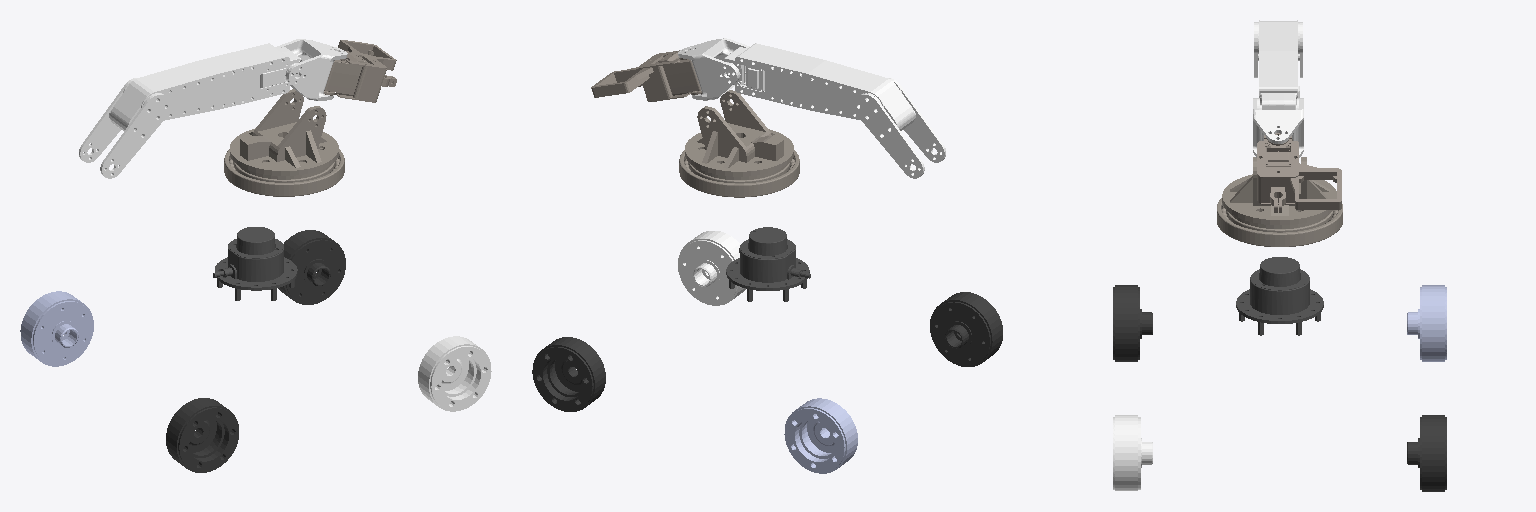
robot.urdf — robot_description:
<?xml version="1.0" encoding="utf-8"?>
<!-- This URDF was automatically created by SolidWorks to URDF Exporter! Originally created by Stephen Brawner (brawner@gmail.com) 
     Commit Version: 1.6.0-4-g7f85cfe  Build Version: 1.6.7995.38578
     For more information, please see http://wiki.ros.org/sw_urdf_exporter -->
<robot
  name="robot_description">

  <!-- Robot Footprint -->
  <link name="base_footprint"/>

  <joint name="base_joint" type="fixed">
    <parent link="base_footprint"/>
    <child link="base_link"/>
    <origin xyz="0.0 0.0 0.033" rpy="0 0 0"/>
  </joint>

  <!-- base link -->
  <link
    name="base_link">
    <inertial>
      <origin
        xyz="-0.00905791507473457 -0.000488795930540497 0.0640826076248514"
        rpy="0 0 0" />
      <mass
        value="3.02079030126272" />
      <inertia
        ixx="0.0047459102901528"
        ixy="3.51756586633145E-06"
        ixz="9.25187553131626E-07"
        iyy="0.00495134636228368"
        iyz="-1.11927483956347E-07"
        izz="0.00929793533778467" />
    </inertial>
    <visual>
      <origin
        xyz="0 0 0"
        rpy="0 0 0" />
      <geometry>
        <mesh
          filename="package://robot_description/meshes/base_link.STL" />
      </geometry>
      <material
        name="">
        <color
          rgba="1 1 1 1" />
      </material>
    </visual>
    <collision>
      <origin
        xyz="0 0 0"
        rpy="0 0 0" />
      <geometry>
        <mesh
          filename="package://robot_description/meshes/base_link.STL" />
      </geometry>
    </collision>
  </link>

  <!-- laser link -->
  <link
    name="laser">
    <inertial>
      <origin
        xyz="-3.28944182967072E-09 -2.79918769626876E-09 -0.034597418415799"
        rpy="0 0 0" />
      <mass
        value="0.0197577859576288" />
      <inertia
        ixx="4.82189534964696E-06"
        ixy="2.48436928325093E-14"
        ixz="2.38955057703625E-14"
        iyy="4.82189520756809E-06"
        iyz="2.28917153671191E-15"
        izz="9.36232732215207E-06" />
    </inertial>
    <visual>
      <origin
        xyz="0 0 0"
        rpy="0 0 0" />
      <geometry>
        <mesh
          filename="package://robot_description/meshes/laser_frame.STL" />
      </geometry>
      <material
        name="">
        <color
          rgba="0.376470588235294 0.376470588235294 0.376470588235294 1" />
      </material>
    </visual>
    <collision>
      <origin
        xyz="0 0 0"
        rpy="0 0 0" />
      <geometry>
        <mesh
          filename="package://robot_description/meshes/laser_frame.STL" />
      </geometry>
    </collision>
  </link>

  <!-- laser joint -->
  <joint
    name="laser_joint"
    type="fixed">
    <origin
      xyz="-0.000482541160108889 0 0.111874126705049"
      rpy="0 0 0" />
    <parent
      link="base_link" />
    <child
      link="laser" />
    <axis
      xyz="0 0 0" />
  </joint>

  <!-- arm0_link -->
  <link
    name="arm0_Link">
    <inertial>
      <origin
        xyz="5.27093519414809E-05 2.44954880894475E-05 0.0113815325455051"
        rpy="0 0 0" />
      <mass
        value="0.469376261813121" />
      <inertia
        ixx="0.000439903649212175"
        ixy="6.19012321653416E-08"
        ixz="-2.10717922407623E-06"
        iyy="0.000442080302381582"
        iyz="-3.85248785977126E-11"
        izz="0.000856561950617975" />
    </inertial>
    <visual>
      <origin
        xyz="0 0 0"
        rpy="0 0 0" />
      <geometry>
        <mesh
          filename="package://robot_description/meshes/arm0_Link.STL" />
      </geometry>
      <material
        name="">
        <color
          rgba="0.647058823529412 0.619607843137255 0.588235294117647 1" />
      </material>
    </visual>
    <collision>
      <origin
        xyz="0 0 0"
        rpy="0 0 0" />
      <geometry>
        <mesh
          filename="package://robot_description/meshes/arm0_Link.STL" />
      </geometry>
    </collision>
  </link>

  <!-- arm0 joint -->
  <joint
    name="arm0"
    type="continuous">
    <origin
      xyz="0.0295174588398881 0 0.173124126705049"
      rpy="0 0 0" />
    <parent
      link="base_link" />
    <child
      link="arm0_Link" />
    <axis
      xyz="0 0 1" />
  </joint>

  <!-- arm1_link -->
  <link
    name="arm1_Link">
    <inertial>
      <origin
        xyz="-0.105007518584986 0.00141630130598419 0.0187999942153139"
        rpy="0 0 0" />
      <mass
        value="0.1905874165244" />
      <inertia
        ixx="4.18380122418888E-05"
        ixy="-8.77952273477526E-06"
        ixz="-1.03900484165303E-08"
        iyy="0.000406432980248108"
        iyz="1.47794609107449E-11"
        izz="0.000424002018340545" />
    </inertial>
    <visual>
      <origin
        xyz="0 0 0"
        rpy="0 0 0" />
      <geometry>
        <mesh
          filename="package://robot_description/meshes/arm1_Link.STL" />
      </geometry>
      <material
        name="">
        <color
          rgba="0.792156862745098 0.819607843137255 0.933333333333333 1" />
      </material>
    </visual>
    <collision>
      <origin
        xyz="0 0 0"
        rpy="0 0 0" />
      <geometry>
        <mesh
          filename="package://robot_description/meshes/arm1_Link.STL" />
      </geometry>
    </collision>
  </link>

  <!-- arm1 joint -->
  <joint
    name="arm1"
    type="revolute">
    <origin
      xyz="0.02 0.0183 0.0595"
      rpy="1.5708 0 0" />
    <parent
      link="arm0_Link" />
    <child
      link="arm1_Link" />
    <axis
      xyz="0 0 1" />
    <limit
      lower="-210"
      upper="0"
      effort="1"
      velocity="3" />
  </joint>
  <link
    name="arm2_Link">
    <inertial>
      <origin
        xyz="0.100452932197325 0.0447481861533194 -0.0181893769189027"
        rpy="0 0 0" />
      <mass
        value="0.164248712945774" />
      <inertia
        ixx="3.52887905356114E-05"
        ixy="-2.00181663560874E-05"
        ixz="5.21115865733209E-09"
        iyy="0.00029554091042407"
        iyz="-3.44733343118317E-10"
        izz="0.000308884693204529" />
    </inertial>
    <visual>
      <origin
        xyz="0 0 0"
        rpy="0 0 0" />
      <geometry>
        <mesh
          filename="package://robot_description/meshes/arm2_Link.STL" />
      </geometry>
      <material
        name="">
        <color
          rgba="1 1 1 1" />
      </material>
    </visual>
    <collision>
      <origin
        xyz="0 0 0"
        rpy="0 0 0" />
      <geometry>
        <mesh
          filename="package://robot_description/meshes/arm2_Link.STL" />
      </geometry>
    </collision>
  </link>

  <!-- arm2 joint -->
  <joint
    name="arm2"
    type="revolute">
    <origin
      xyz="-0.214299994813131 0 0.0376000028997485"
      rpy="0 0 0" />
    <parent
      link="arm1_Link" />
    <child
      link="arm2_Link" />
    <axis
      xyz="0 0 -1" />
    <limit
      lower="0"
      upper="270"
      effort="1"
      velocity="3" />
  </joint>

  <!-- arm3_link -->
  <link
    name="arm3_Link">
    <inertial>
      <origin
        xyz="0.0244536421910909 -0.0093611713162593 -0.0184330992425119"
        rpy="0 0 0" />
      <mass
        value="0.0312238812156817" />
      <inertia
        ixx="1.2997419944031E-05"
        ixy="-6.86664871709515E-07"
        ixz="-9.49084586365268E-09"
        iyy="1.14173396064683E-05"
        iyz="4.27514678311462E-09"
        izz="1.1219689644564E-05" />
    </inertial>
    <visual>
      <origin
        xyz="0 0 0"
        rpy="0 0 0" />
      <geometry>
        <mesh
          filename="package://robot_description/meshes/arm3_Link.STL" />
      </geometry>
      <material
        name="">
        <color
          rgba="1 1 1 1" />
      </material>
    </visual>
    <collision>
      <origin
        xyz="0 0 0"
        rpy="0 0 0" />
      <geometry>
        <mesh
          filename="package://robot_description/meshes/arm3_Link.STL" />
      </geometry>
    </collision>
  </link>

  <!-- arm3 joint -->
  <joint
    name="arm3"
    type="revolute">
    <origin
      xyz="0.195198405547995 0.0479983915101106 0.000499985962073995"
      rpy="0.00872697851439958 -0.00872598171315928 -7.61524215215586E-05" />
    <parent
      link="arm2_Link" />
    <child
      link="arm3_Link" />
    <axis
      xyz="-0.00872587097686232 -0.00872653549837341 -0.99992385047757" />
    <limit
      lower="0"
      upper="100"
      effort="1"
      velocity="3" />
  </joint>

  <!-- arm4_link -->
  <link
    name="arm4_Link">
    <inertial>
      <origin
        xyz="0.0347390678915086 -0.00413801569158295 -0.0209305905705711"
        rpy="0 0 0" />
      <mass
        value="0.0522475609584348" />
      <inertia
        ixx="1.36823938394385E-05"
        ixy="2.66574817985518E-06"
        ixz="8.39394854007867E-07"
        iyy="9.79309028256577E-06"
        iyz="-1.69593151918628E-06"
        izz="1.75606392336261E-05" />
    </inertial>
    <visual>
      <origin
        xyz="0 0 0"
        rpy="0 0 0" />
      <geometry>
        <mesh
          filename="package://robot_description/meshes/arm4_Link.STL" />
      </geometry>
      <material
        name="">
        <color
          rgba="0.650980392156863 0.619607843137255 0.588235294117647 1" />
      </material>
    </visual>
    <collision>
      <origin
        xyz="0 0 0"
        rpy="0 0 0" />
      <geometry>
        <mesh
          filename="package://robot_description/meshes/arm4_Link.STL" />
      </geometry>
    </collision>
  </link>

  <!-- arm4 joint -->
  <joint
    name="arm4"
    type="revolute">
    <origin
      xyz="0.0398926340613602 -0.0346685199789408 -0.0183469477877459"
      rpy="1.56824861064815 0.00509594419856987 -0.366478515653153" />
    <parent
      link="arm3_Link" />
    <child
      link="arm4_Link" />
    <axis
      xyz="-0.00872587097688493 -0.00872653523448956 -0.999923850479873" />
    <limit
      lower="-90"
      upper="90"
      effort="1"
      velocity="3" />
  </joint>

  <!-- LFs link -->
  <link
    name="LFs_Link">
    <inertial>
      <origin
        xyz="-3.43181859924213E-06 0.00109461595355642 -0.0424747271155292"
        rpy="0 0 0" />
      <mass
        value="0.114715980836134" />
      <inertia
        ixx="1.43428504844199E-05"
        ixy="1.07530266321773E-11"
        ixz="3.39986697862229E-12"
        iyy="2.96038470108407E-05"
        iyz="2.80051423962253E-10"
        izz="2.00828947865518E-05" />
    </inertial>
    <visual>
      <origin
        xyz="0 0 0"
        rpy="0 0 0" />
      <geometry>
        <mesh
          filename="package://robot_description/meshes/LFs_Link.STL" />
      </geometry>
      <material
        name="">
        <color
          rgba="1 0.949019607843137 0.898039215686275 1" />
      </material>
    </visual>
    <collision>
      <origin
        xyz="0 0 0"
        rpy="0 0 0" />
      <geometry>
        <mesh
          filename="package://robot_description/meshes/LFs_Link.STL" />
      </geometry>
    </collision>
  </link>

  <!-- LFs joint -->
  <joint
    name="LFs"
    type="continuous">
    <origin
      xyz="0.13238 0.13286 0.055124"
      rpy="0 0 0" />
    <parent
      link="base_link" />
    <child
      link="LFs_Link" />
    <axis
      xyz="0 0 1" />
  </joint>

  <!-- LFd link -->
  <link
    name="LFd_Link">
    <inertial>
      <origin
        xyz="-1.03712429144753E-06 -4.22896943690254E-05 -0.0180040579132936"
        rpy="0 0 0" />
      <mass
        value="0.0555886189628006" />
      <inertia
        ixx="2.17656627943887E-05"
        ixy="1.87563768432862E-16"
        ixz="8.87301353584558E-17"
        iyy="2.17656627947915E-05"
        iyz="1.05868514442875E-16"
        izz="3.98658756411664E-05" />
    </inertial>
    <visual>
      <origin
        xyz="0 0 0"
        rpy="0 0 0" />
      <geometry>
        <mesh
          filename="package://robot_description/meshes/LFd_Link.STL" />
      </geometry>
      <material
        name="">
        <color
          rgba="0.298039215686275 0.298039215686275 0.298039215686275 1" />
      </material>
    </visual>
    <collision>
      <origin
        xyz="0 0 0"
        rpy="0 0 0" />
      <geometry>
        <mesh
          filename="package://robot_description/meshes/LFd_Link.STL" />
      </geometry>
    </collision>
  </link>

  <!-- LFd joint -->
  <joint
    name="LFd"
    type="continuous">
    <origin
      xyz="0 -0.0192000070641395 -0.0549577103053597"
      rpy="1.5707963267949 0 0" />
    <parent
      link="LFs_Link" />
    <child
      link="LFd_Link" />
    <axis
      xyz="0 0 -1" />
  </joint>

  <!-- LRs link -->
  <link
    name="LRs_Link">
    <inertial>
      <origin
        xyz="-3.45773536702954E-06 0.00109460811387849 -0.0424747271155197"
        rpy="0 0 0" />
      <mass
        value="0.114715980835521" />
      <inertia
        ixx="1.43428504843719E-05"
        ixy="1.07530264428732E-11"
        ixz="3.39986454052669E-12"
        iyy="2.96038470107929E-05"
        iyz="2.80051427479846E-10"
        izz="2.00828947865514E-05" />
    </inertial>
    <visual>
      <origin
        xyz="0 0 0"
        rpy="0 0 0" />
      <geometry>
        <mesh
          filename="package://robot_description/meshes/LRs_Link.STL" />
      </geometry>
      <material
        name="">
        <color
          rgba="1 1 1 1" />
      </material>
    </visual>
    <collision>
      <origin
        xyz="0 0 0"
        rpy="0 0 0" />
      <geometry>
        <mesh
          filename="package://robot_description/meshes/LRs_Link.STL" />
      </geometry>
    </collision>
  </link>

  <!-- LRs joint -->
  <joint
    name="LRs"
    type="continuous">
    <origin
      xyz="-0.13335 0.13286 0.055124"
      rpy="0 0 0" />
    <parent
      link="base_link" />
    <child
      link="LRs_Link" />
    <axis
      xyz="0 0 1" />
  </joint>

  <!-- LRd link -->
  <link
    name="LRd_Link">
    <inertial>
      <origin
        xyz="-1.05702918615225E-06 -4.22896946395625E-05 -0.0180040579107741"
        rpy="0 0 0" />
      <mass
        value="0.0555886189628006" />
      <inertia
        ixx="2.17656627948538E-05"
        ixy="-7.90717223889219E-17"
        ixz="9.89661937500372E-17"
        iyy="2.17656627943267E-05"
        iyz="-8.71922434634148E-18"
        izz="3.98658756411665E-05" />
    </inertial>
    <visual>
      <origin
        xyz="0 0 0"
        rpy="0 0 0" />
      <geometry>
        <mesh
          filename="package://robot_description/meshes/LRd_Link.STL" />
      </geometry>
      <material
        name="">
        <color
          rgba="0.796078431372549 0.823529411764706 0.937254901960784 1" />
      </material>
    </visual>
    <collision>
      <origin
        xyz="0 0 0"
        rpy="0 0 0" />
      <geometry>
        <mesh
          filename="package://robot_description/meshes/LRd_Link.STL" />
      </geometry>
    </collision>
  </link>

  <!-- LRd joint -->
  <joint
    name="LRd"
    type="continuous">
    <origin
      xyz="0 -0.0192000149011577 -0.0549577103053588"
      rpy="1.5707963267949 0 0" />
    <parent
      link="LRs_Link" />
    <child
      link="LRd_Link" />
    <axis
      xyz="0 0 -1" />
  </joint>

  <!-- RFs link -->
  <link
    name="RFs_Link">
    <inertial>
      <origin
        xyz="3.44283421241376E-06 -0.00109462301503799 -0.0424747271155221"
        rpy="0 0 0" />
      <mass
        value="0.114715980835538" />
      <inertia
        ixx="1.43428504843731E-05"
        ixy="1.07530264536241E-11"
        ixz="-3.39986462854254E-12"
        iyy="2.96038470107942E-05"
        iyz="-2.80051427386621E-10"
        izz="2.00828947865514E-05" />
    </inertial>
    <visual>
      <origin
        xyz="0 0 0"
        rpy="0 0 0" />
      <geometry>
        <mesh
          filename="package://robot_description/meshes/RFs_Link.STL" />
      </geometry>
      <material
        name="">
        <color
          rgba="1 1 1 1" />
      </material>
    </visual>
    <collision>
      <origin
        xyz="0 0 0"
        rpy="0 0 0" />
      <geometry>
        <mesh
          filename="package://robot_description/meshes/RFs_Link.STL" />
      </geometry>
    </collision>
  </link>

  <!-- RFs joint -->
  <joint
    name="RFs"
    type="continuous">
    <origin
      xyz="0.13238 -0.13286 0.055124"
      rpy="0 0 0" />
    <parent
      link="base_link" />
    <child
      link="RFs_Link" />
    <axis
      xyz="0 0 1" />
  </joint>

  <!-- RFd link -->
  <link
    name="RFd_Link">
    <inertial>
      <origin
        xyz="1.05702960626064E-06 -4.22896943098171E-05 0.0180040579107738"
        rpy="0 0 0" />
      <mass
        value="0.0555886189628007" />
      <inertia
        ixx="2.17656627945638E-05"
        ixy="2.74003517078324E-16"
        ixz="-7.01209695758619E-17"
        iyy="2.17656627946164E-05"
        iyz="-1.23646991662953E-16"
        izz="3.98658756411663E-05" />
    </inertial>
    <visual>
      <origin
        xyz="0 0 0"
        rpy="0 0 0" />
      <geometry>
        <mesh
          filename="package://robot_description/meshes/RFd_Link.STL" />
      </geometry>
      <material
        name="">
        <color
          rgba="1 1 1 1" />
      </material>
    </visual>
    <collision>
      <origin
        xyz="0 0 0"
        rpy="0 0 0" />
      <geometry>
        <mesh
          filename="package://robot_description/meshes/RFd_Link.STL" />
      </geometry>
    </collision>
  </link>

  <!-- RFd joint -->
  <joint
    name="RFd"
    type="continuous">
    <origin
      xyz="0 0.0192000000000008 -0.0549577103053633"
      rpy="1.5707963267949 0 0" />
    <parent
      link="RFs_Link" />
    <child
      link="RFd_Link" />
    <axis
      xyz="0 0 1" />
  </joint>

  <!-- RRs_Link -->
  <link
    name="RRs_Link">
    <inertial>
      <origin
        xyz="3.56441174925726E-06 -0.00113327767047011 -0.0438441812611075"
        rpy="0 0 0" />
      <mass
        value="0.110803165091198" />
      <inertia
        ixx="1.37587466407648E-05"
        ixy="1.07530264549324E-11"
        ixz="-3.39986463165107E-12"
        iyy="2.89883861963043E-05"
        iyz="-2.80051427336613E-10"
        izz="1.89090821817843E-05" />
    </inertial>
    <visual>
      <origin
        xyz="0 0 0"
        rpy="0 0 0" />
      <geometry>
        <mesh
          filename="package://robot_description/meshes/RRs_Link.STL" />
      </geometry>
      <material
        name="">
        <color
          rgba="1 1 1 1" />
      </material>
    </visual>
    <collision>
      <origin
        xyz="0 0 0"
        rpy="0 0 0" />
      <geometry>
        <mesh
          filename="package://robot_description/meshes/RRs_Link.STL" />
      </geometry>
    </collision>
  </link>

  <!-- RRs joint -->
  <joint
    name="RRs"
    type="continuous">
    <origin
      xyz="-0.133347475742118 -0.132864934582008 0.0551241267050491"
      rpy="0 0 0" />
    <parent
      link="base_link" />
    <child
      link="RRs_Link" />
    <axis
      xyz="0 0 1" />
  </joint>

  <!-- RRd_Link -->
  <link
    name="RRd_Link">
    <inertial>
      <origin
        xyz="1.05702937763796E-06 -4.22896944295686E-05 0.0180040579107738"
        rpy="0 0 0" />
      <mass
        value="0.0555886189628006" />
      <inertia
        ixx="2.17656627943621E-05"
        ixy="-1.53737084532589E-16"
        ixz="2.70310359630393E-17"
        iyy="2.17656627948185E-05"
        iyz="-8.95623799269351E-17"
        izz="3.98658756411666E-05" />
    </inertial>
    <visual>
      <origin
        xyz="0 0 0"
        rpy="0 0 0" />
      <geometry>
        <mesh
          filename="package://robot_description/meshes/RRd_Link.STL" />
      </geometry>
      <material
        name="">
        <color
          rgba="0.298039215686275 0.298039215686275 0.298039215686275 1" />
      </material>
    </visual>
    <collision>
      <origin
        xyz="0 0 0"
        rpy="0 0 0" />
      <geometry>
        <mesh
          filename="package://robot_description/meshes/RRd_Link.STL" />
      </geometry>
    </collision>
  </link>

  <!-- RRd joint -->
  <joint
    name="RRd"
    type="continuous">
    <origin
      xyz="0 0.0192000000000007 -0.0549577103053587"
      rpy="1.5707963267949 0 0" />
    <parent
      link="RRs_Link" />
    <child
      link="RRd_Link" />
    <axis
      xyz="0 0 1" />
  </joint>
</robot>

--- Facts derived from the render (not from the file) ---
Views: 3 orthographic renders of the robot side by side, from view 1: azimuth 30°, elevation 25°; view 2: azimuth 150°, elevation 25°; view 3: azimuth 270°, elevation 25°.
Model robot_description with 16 links and 15 joints (4 revolute, 9 continuous, 2 fixed), rooted at base_footprint, posed every joint at zero.
Links seen in each view (by area): view 1: arm2_Link, arm0_Link, RFd_Link, LRd_Link, RRd_Link, laser, LFd_Link, arm4_Link, arm3_Link; view 2: arm2_Link, arm0_Link, LRd_Link, LFd_Link, RRd_Link, laser, RFd_Link, arm4_Link, arm3_Link; view 3: arm0_Link, laser, arm2_Link, arm4_Link, RFd_Link, LFd_Link, LRd_Link, RRd_Link, arm3_Link.
Link boxes in pixels (x1,y1,x2,y2): arm2_Link: (79,43,302,178); arm0_Link: (224,89,344,196); RFd_Link: (418,336,491,411); LRd_Link: (20,291,93,366); RRd_Link: (166,398,238,472); laser: (213,227,297,300); LFd_Link: (278,230,345,304); arm4_Link: (324,40,396,102); arm3_Link: (275,39,347,100); arm2_Link: (722,43,945,178); arm0_Link: (679,90,799,197); LRd_Link: (784,398,857,473); LFd_Link: (532,337,605,411); RRd_Link: (930,292,1002,366); laser: (726,227,810,301); RFd_Link: (678,231,745,305); arm4_Link: (591,50,701,101); arm3_Link: (678,38,749,100); arm0_Link: (1217,157,1342,246); laser: (1236,257,1323,335); arm2_Link: (1254,20,1302,109); arm4_Link: (1257,133,1341,212); RFd_Link: (1113,415,1152,490); LFd_Link: (1407,415,1446,491); LRd_Link: (1407,285,1446,361); RRd_Link: (1113,285,1152,361); arm3_Link: (1253,98,1303,157).
Size in the robot's own frame: 0.3412 by 0.2895 by 0.3317 metres.
Meshes: 15 distinct files referenced, 9 mesh visuals loaded (9 binary STL); not drawn: 6 (reference not matched to a file when rendering).
